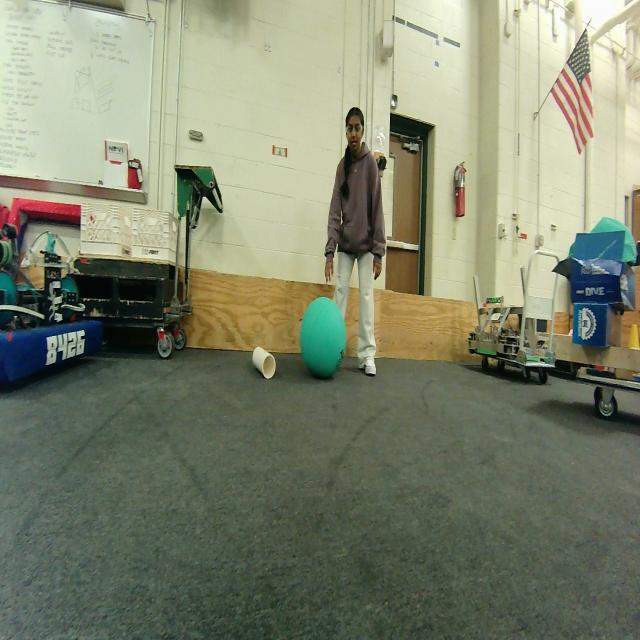algae: (300, 297, 346, 379)
coral: (252, 346, 276, 378)
